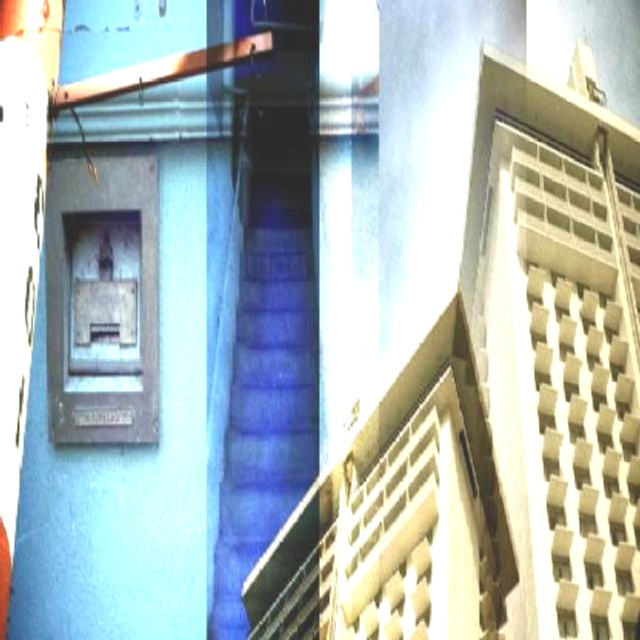stair: (205, 196, 319, 638)
